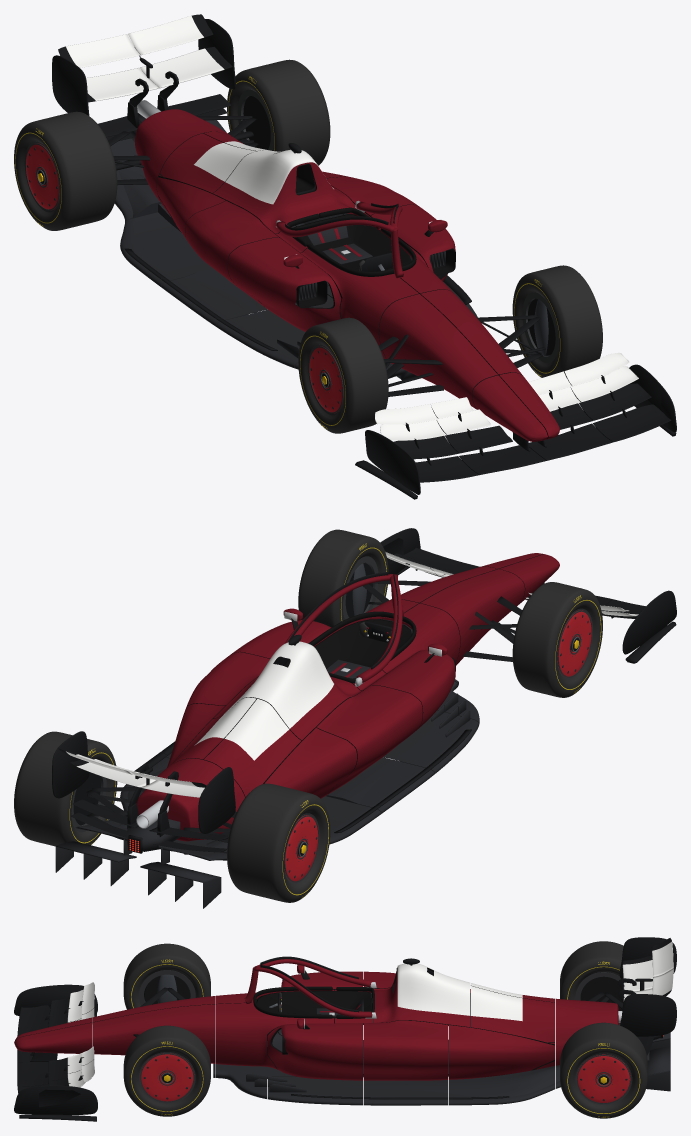
The model's file is Ferrari_F1_Clean.glb.
3 renders of one model, top to bottom at view 1: azimuth 30°, elevation 25°; view 2: azimuth 150°, elevation 25°; view 3: azimuth 270°, elevation 25°, orthographic. The views are drawn at different scales.
Parts seen in each view (by area): view 1: Ferrari_Wheel_Tire_Rear_Right, Ferrari_Wheel_Tire_Front_Right, Ferrari_Wheel_Tire_Rear_Left, Ferrari_Wheel_Tire_Front_Left, Ferrari_Nose_Right, Ferrari_FrontWing_Outer_Right, Ferrari_FrontWing_Outer_Left, Ferrari_EngineCover_AirboxCowl, Ferrari_Sidepod_Inlet_Right, Ferrari_RearWing_Left, Ferrari_RearWing_Right, Ferrari_Floor_SidepodRear_Right (+22 smaller); view 2: Ferrari_Wheel_Tire_Rear_Right, Ferrari_Wheel_Tire_Front_Right, Ferrari_Rear_CrashStructure_Exhaust, Ferrari_EngineCover_AirboxCowl, Ferrari_Wheel_Tire_Rear_Left, Ferrari_Sidepod_Mid_Right, Ferrari_Wheel_Tire_Front_Left, Ferrari_EngineCover_Rear_Right, Ferrari_Nose_Right, Ferrari_Sidepod_Rear_Right, Ferrari_Floor_SidepodInlet_Right, Ferrari_Floor_SidepodMid_Right (+21 smaller); view 3: Ferrari_Wheel_Tire_Rear_Left, Ferrari_Wheel_Tire_Front_Left, Ferrari_Sidepod_Mid_Left, Ferrari_Sidepod_Inlet_Left, Ferrari_EngineCover_AirboxCowl, Ferrari_Sidepod_Rear_Left, Ferrari_Monocoque_Flank_Left, Ferrari_Nose_Left, Ferrari_EngineCover_Rear_Left, Ferrari_Wheel_Tire_Front_Right, Ferrari_FrontWing_Outer_Left, Ferrari_FrontWing_Outer_Right (+23 smaller).
Boxes of the visible parts, left/top/right/bottom form: Ferrari_Wheel_Tire_Rear_Right: left=14, top=111, right=117, bottom=230; Ferrari_Wheel_Tire_Front_Right: left=298, top=317, right=388, bottom=433; Ferrari_Wheel_Tire_Rear_Left: left=227, top=59, right=330, bottom=165; Ferrari_Wheel_Tire_Front_Left: left=512, top=265, right=602, bottom=378; Ferrari_Nose_Right: left=379, top=294, right=497, bottom=409; Ferrari_FrontWing_Outer_Right: left=355, top=404, right=478, bottom=499; Ferrari_FrontWing_Outer_Left: left=564, top=352, right=676, bottom=442; Ferrari_EngineCover_AirboxCowl: left=213, top=149, right=356, bottom=233; Ferrari_Sidepod_Inlet_Right: left=228, top=237, right=341, bottom=331; Ferrari_RearWing_Left: left=128, top=14, right=235, bottom=99; Ferrari_RearWing_Right: left=52, top=34, right=158, bottom=115; Ferrari_Floor_SidepodRear_Right: left=120, top=204, right=213, bottom=286; Ferrari_Wheel_Tire_Rear_Right: left=227, top=783, right=330, bottom=902; Ferrari_Wheel_Tire_Front_Right: left=512, top=582, right=602, bottom=697; Ferrari_Rear_CrashStructure_Exhaust: left=55, top=799, right=228, bottom=908; Ferrari_EngineCover_AirboxCowl: left=213, top=641, right=363, bottom=741; Ferrari_Wheel_Tire_Rear_Left: left=14, top=731, right=117, bottom=846; Ferrari_Sidepod_Mid_Right: left=316, top=685, right=422, bottom=794; Ferrari_Wheel_Tire_Front_Left: left=298, top=529, right=388, bottom=627; Ferrari_EngineCover_Rear_Right: left=203, top=699, right=301, bottom=797; Ferrari_Nose_Right: left=420, top=569, right=524, bottom=665; Ferrari_Sidepod_Rear_Right: left=265, top=727, right=356, bottom=798; Ferrari_Floor_SidepodInlet_Right: left=383, top=705, right=478, bottom=773; Ferrari_Floor_SidepodMid_Right: left=327, top=757, right=434, bottom=813; Ferrari_Wheel_Tire_Rear_Left: left=560, top=1022, right=647, bottom=1118; Ferrari_Wheel_Tire_Front_Left: left=123, top=1025, right=210, bottom=1116; Ferrari_Sidepod_Mid_Left: left=364, top=1020, right=448, bottom=1080; Ferrari_Sidepod_Inlet_Left: left=267, top=1023, right=363, bottom=1080; Ferrari_EngineCover_AirboxCowl: left=373, top=963, right=469, bottom=1027; Ferrari_Sidepod_Rear_Left: left=449, top=1025, right=554, bottom=1079; Ferrari_Monocoque_Flank_Left: left=216, top=1002, right=334, bottom=1069; Ferrari_Nose_Left: left=92, top=1004, right=215, bottom=1063; Ferrari_EngineCover_Rear_Left: left=470, top=986, right=554, bottom=1042; Ferrari_Wheel_Tire_Front_Right: left=123, top=943, right=210, bottom=1009; Ferrari_FrontWing_Outer_Left: left=14, top=1059, right=97, bottom=1121; Ferrari_FrontWing_Outer_Right: left=14, top=982, right=97, bottom=1035.
Size of the model in its own units: 2.11 by 1.01 by 5.47.
